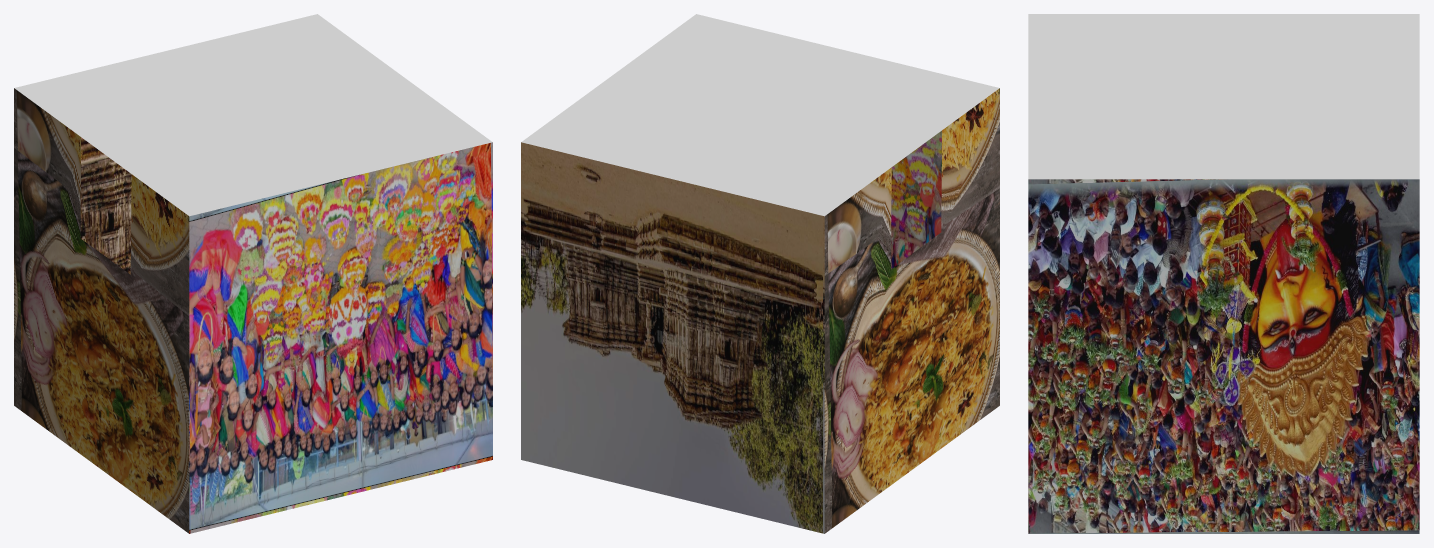
The model's file is Telangana.glb.
3 views of the same model, side by side, from view 1: azimuth 30°, elevation 25°; view 2: azimuth 150°, elevation 25°; view 3: azimuth 270°, elevation 25° (orthographic). The views are drawn at different scales.
Parts seen in each view (by area): view 1: Cube.003, Cube, Cube.005, Cube.002; view 2: Cube.002, Cube, Cube.005, Cube.003; view 3: Cube.004, Cube.
Part boxes in pixels (<box>): Cube.003: <box>189,142,492,533</box>; Cube: <box>14,14,492,216</box>; Cube.005: <box>14,88,189,533</box>; Cube.002: <box>80,137,131,274</box>; Cube.002: <box>521,142,824,533</box>; Cube: <box>521,14,999,216</box>; Cube.005: <box>824,88,999,533</box>; Cube.003: <box>891,130,941,269</box>; Cube.004: <box>1028,179,1419,533</box>; Cube: <box>1028,14,1419,179</box>.
Bounding box in the file's own units: 94.76 × 94.76 × 94.76.
5 materials, 4 textured.
